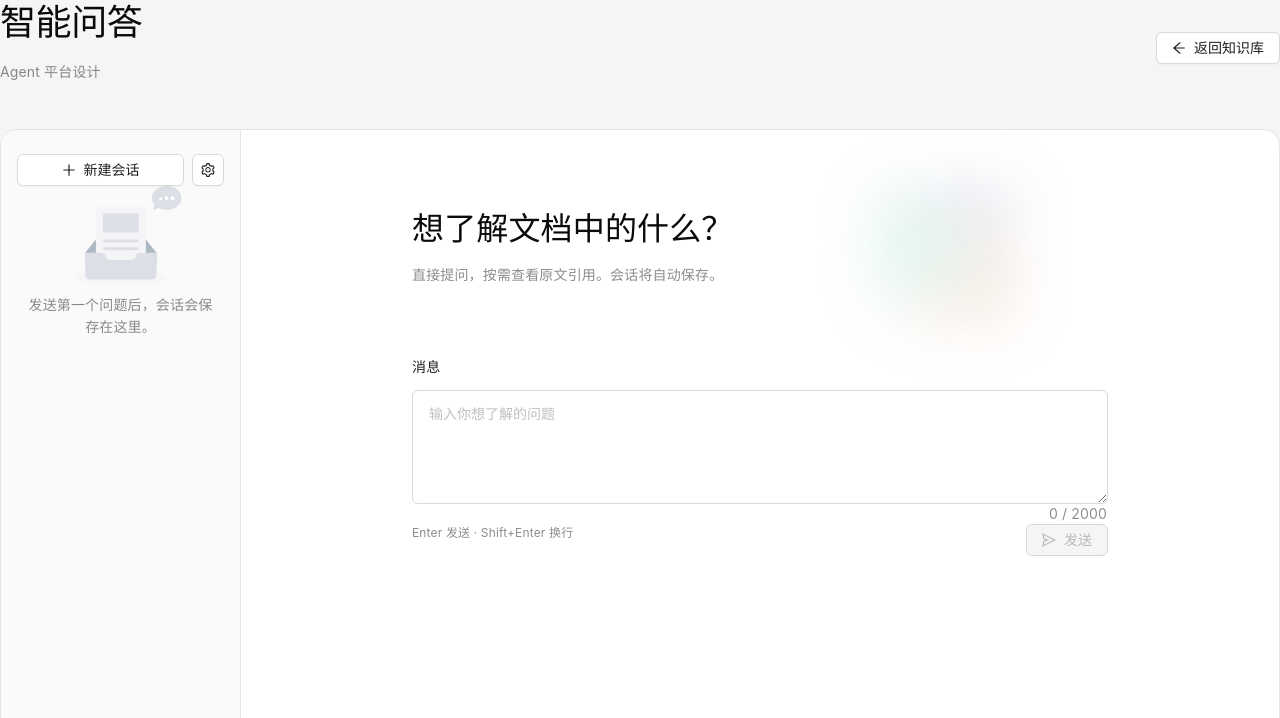
Test case: ChatPage (MSW integration tests) › creates a ReAct conversation, navigates to its server ID and displays empty history
Check: the text "发送第一个问题后，会话会保存在这里。" is shown, box [28, 296, 212, 335]
Click the button named "高级会话" at {"x": 208, "y": 170}, box [192, 154, 224, 186]
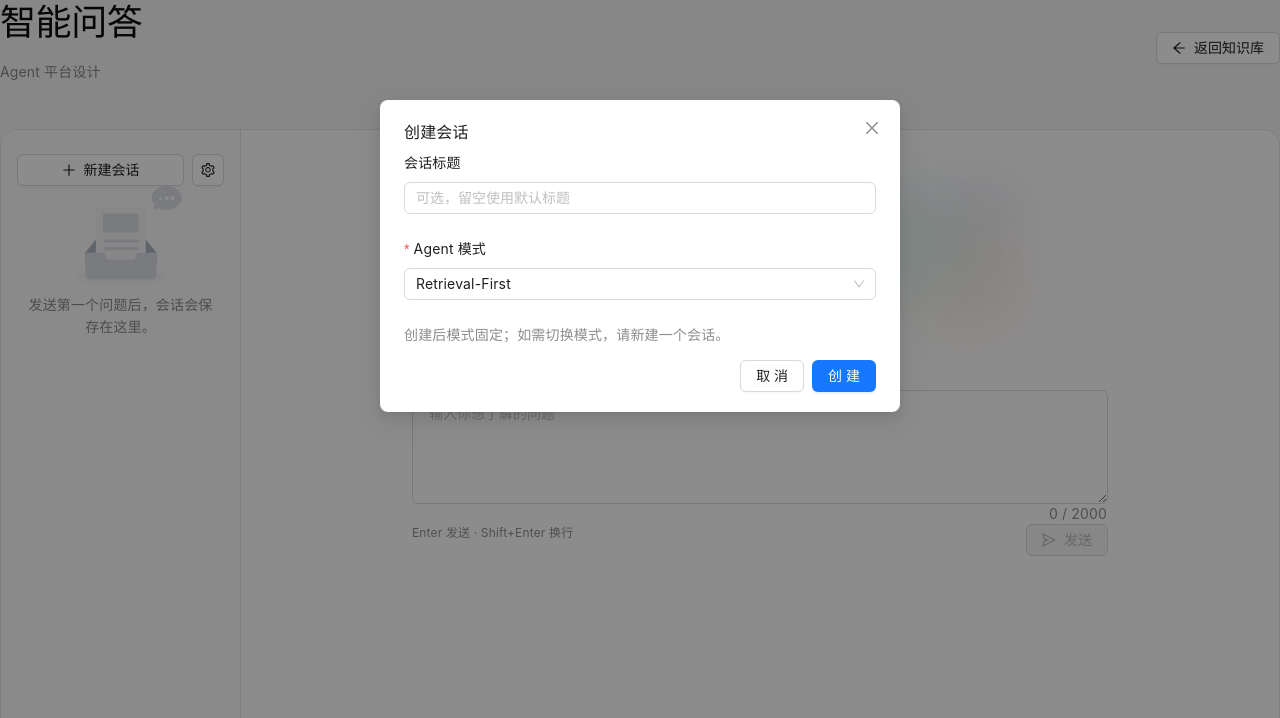
Type "多轮调研" into the field labelled "会话标题" at {"x": 640, "y": 198}, box [404, 182, 876, 214]
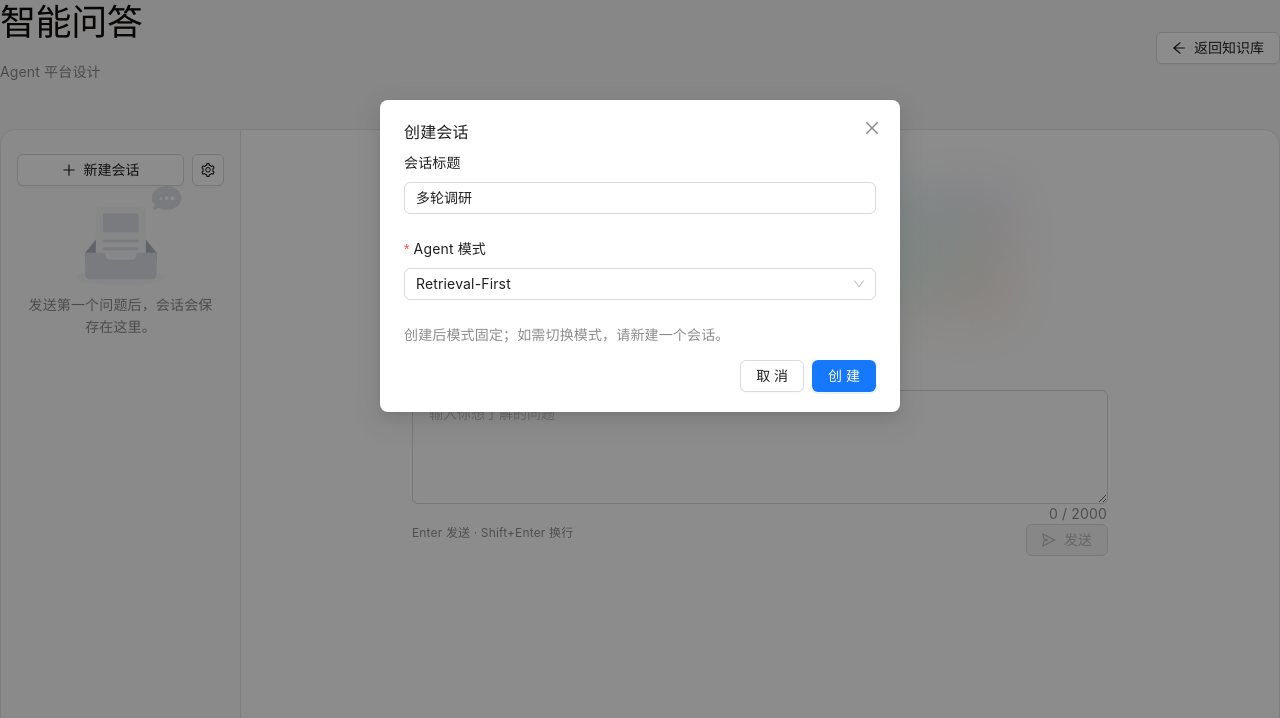
Press the mouse on the dropdown labelled "Agent 模式" at {"x": 452, "y": 249}, box [404, 238, 500, 260]
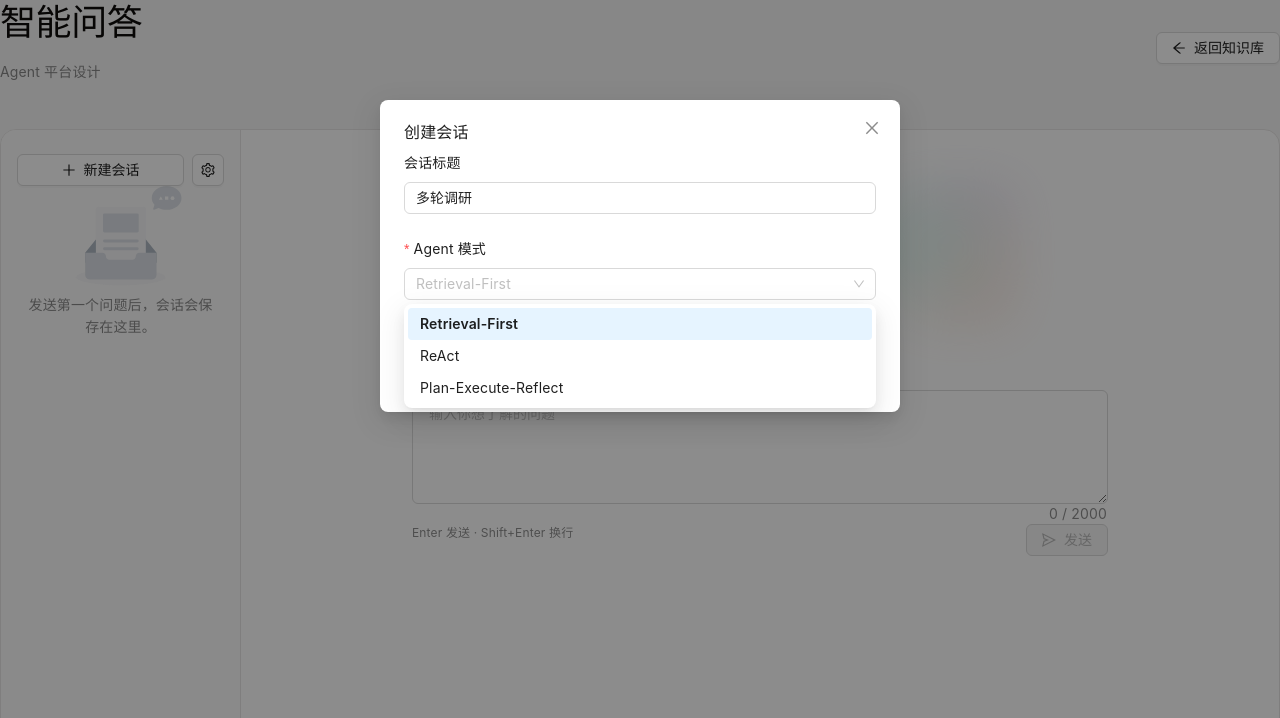
Click the text "ReAct" at {"x": 440, "y": 356}, box [420, 347, 460, 364]
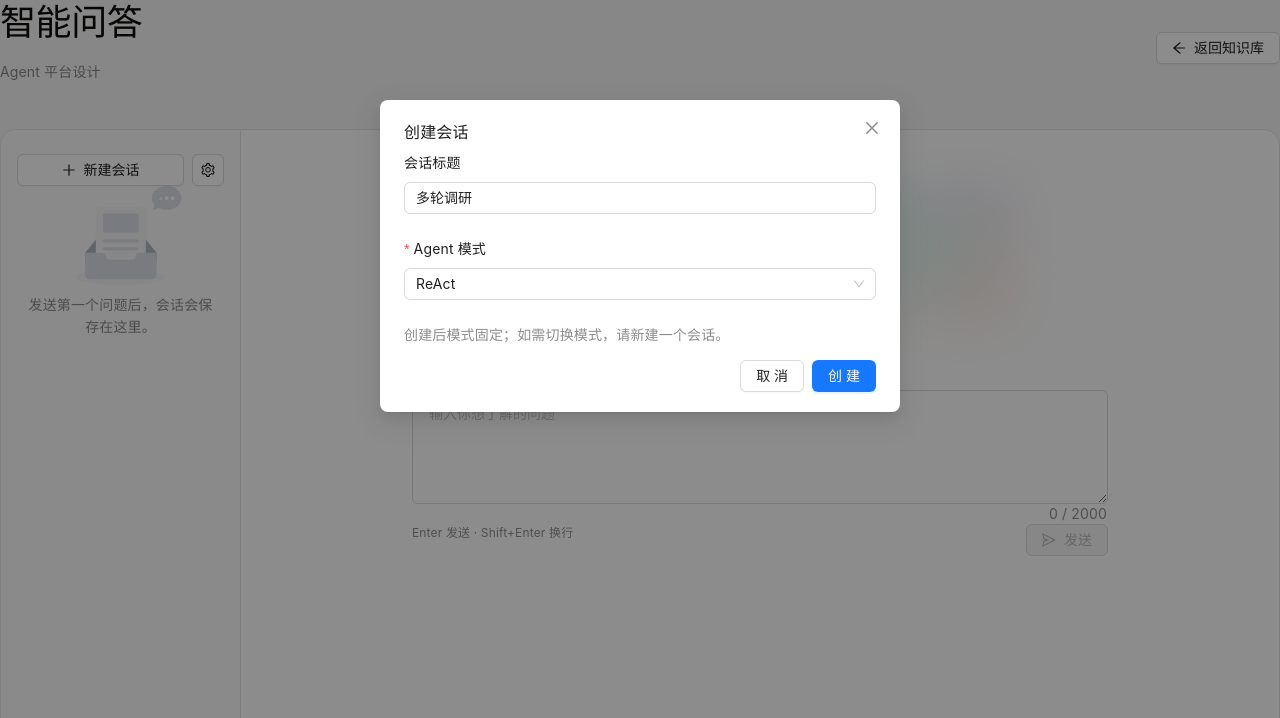
Click the button "创 建" at {"x": 844, "y": 376}, box [812, 360, 876, 392]
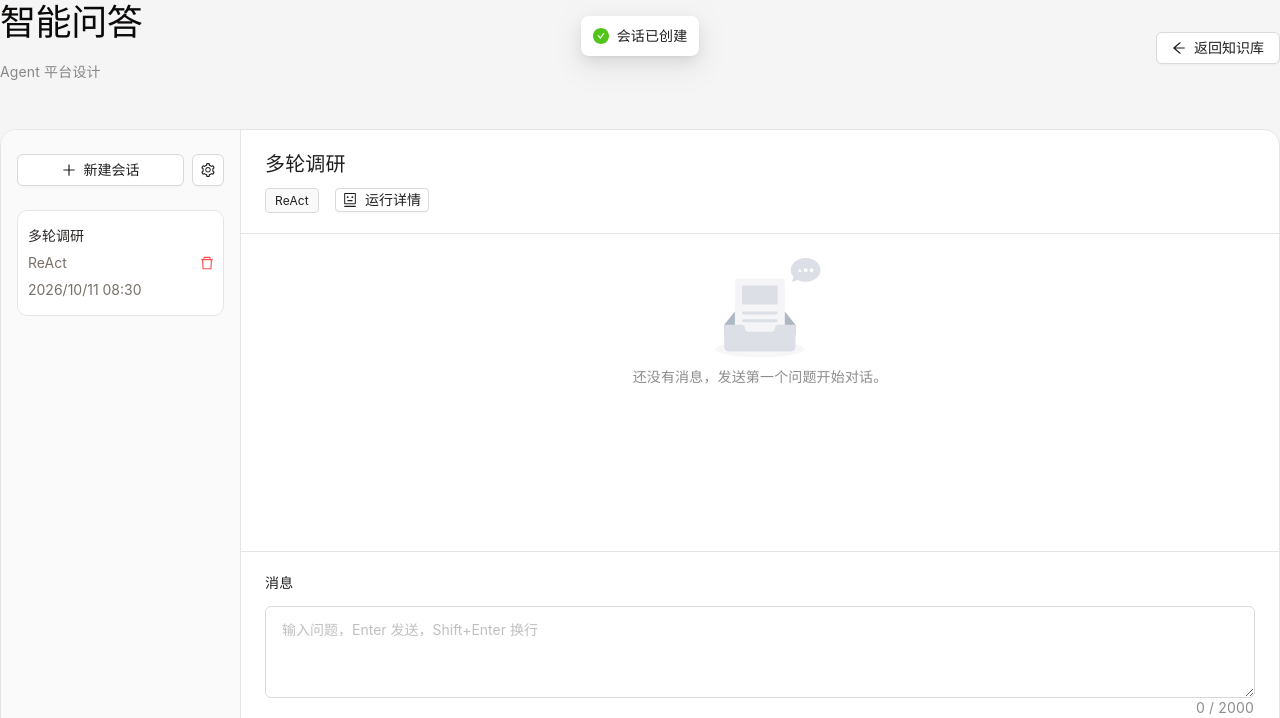
Check: the text "还没有消息，发送第一个问题开始对话。" is shown, box [633, 368, 887, 385]
Check: the text box labelled "消息" is enabled, box [266, 607, 1254, 697]
